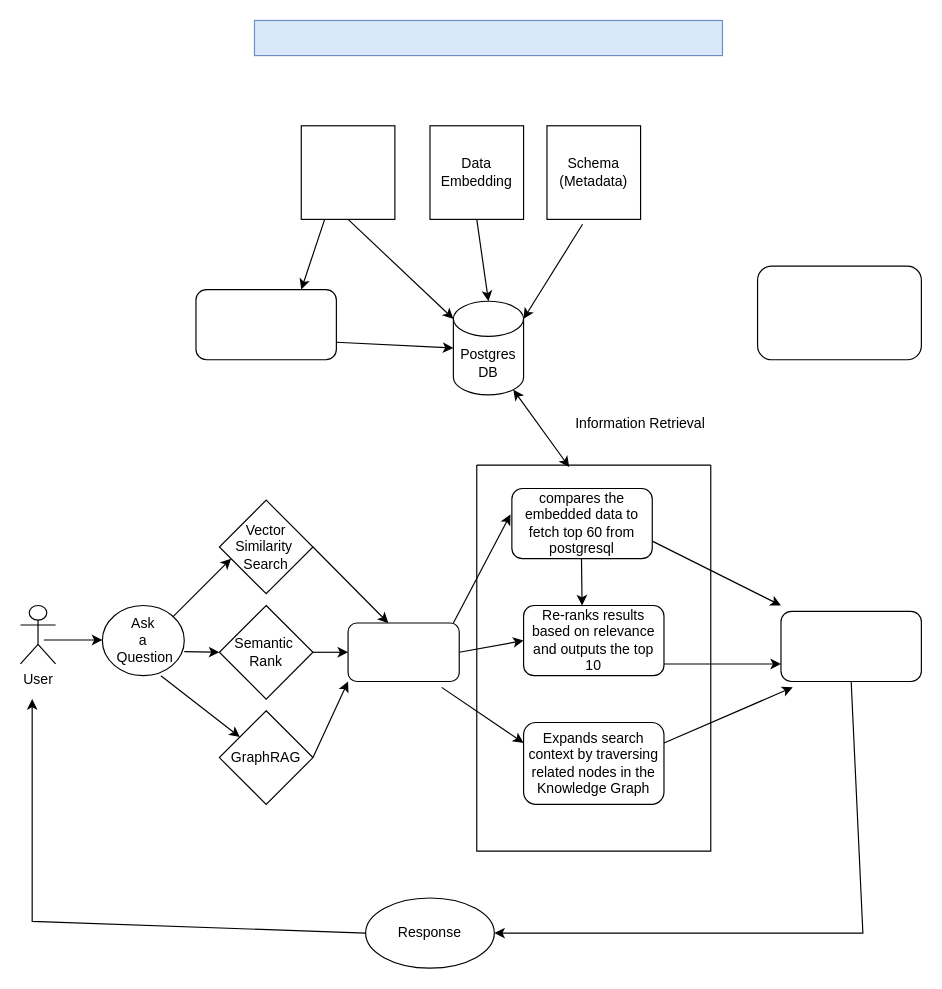
Some shapes in this 942 by 989 pixel diagram are drawn without their labels. Here are the shapes that lost their labels. From the top down, the centre of each, then its label:
At pixel 487 37: "ICM Tickets Resolution Chatbot - RAG System".
At pixel 347 172: "Documents (Text)".
At pixel 265 324: "Knowledge Graph (Nodes & Edges)".
At pixel 838 312: "FastAPI Backedn server streamlit UI".
At pixel 403 652: "Generate Embedding".
At pixel 850 646: "Passes to LLM for chat completion (Open AI)".
